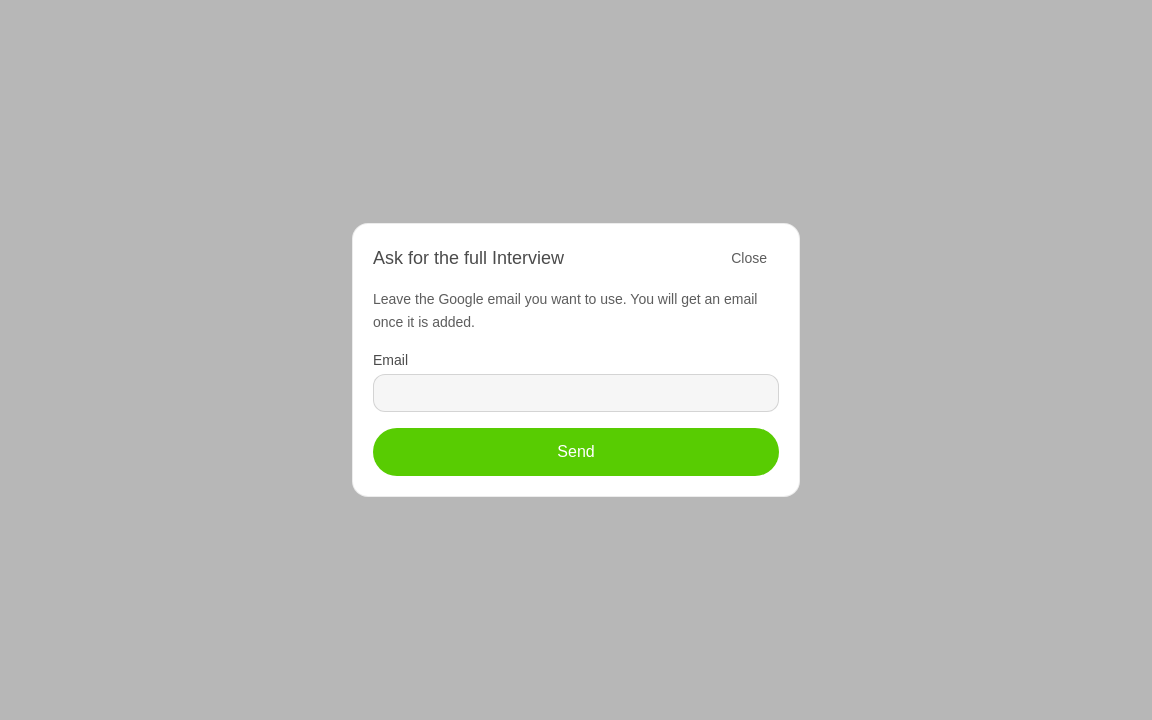
Test: FullSessionRequestDialog › keeps the form open when the save fails
In the field labelled "Email": (576, 393) [373,374,779,412], type "ada@example.com"
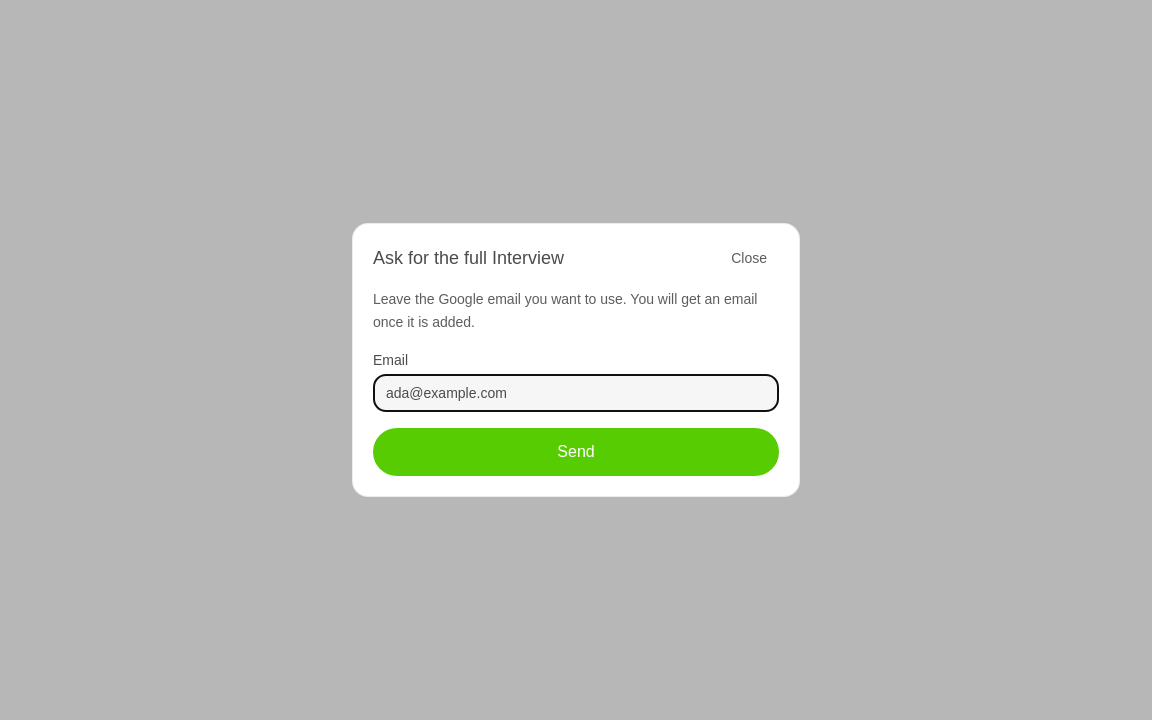
Click the button "Send": (576, 452) [373,428,779,476]
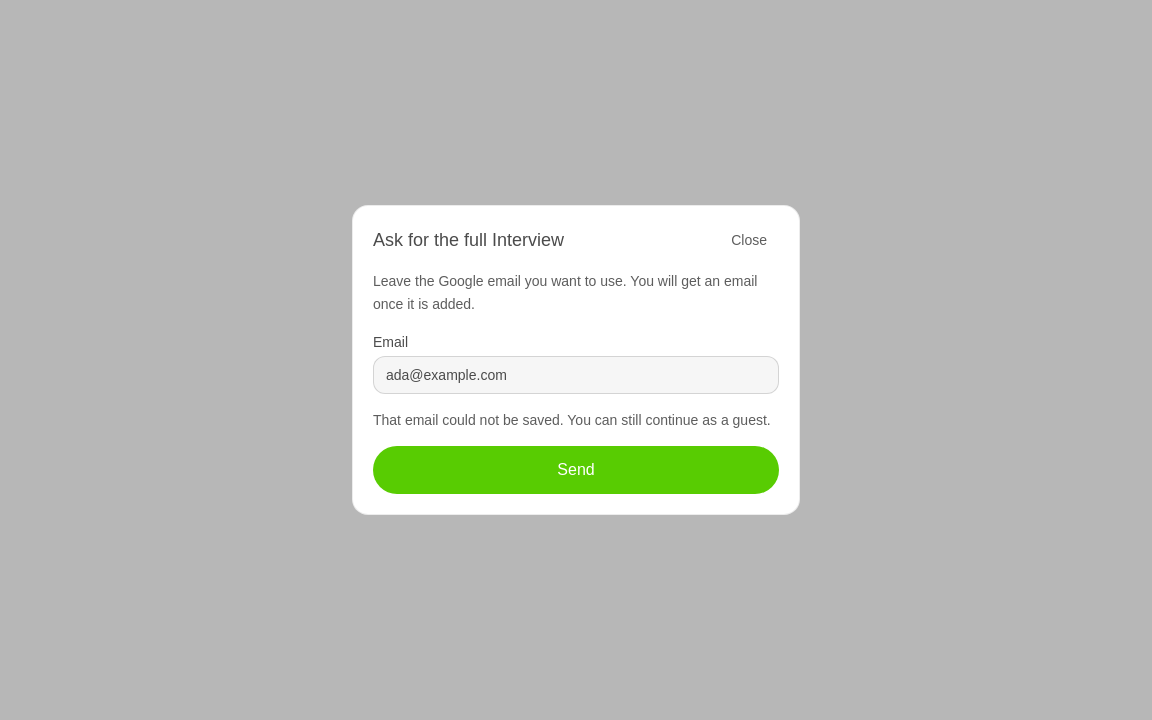
Expected: the text "could not be saved" is shown, [373,412,771,428]
